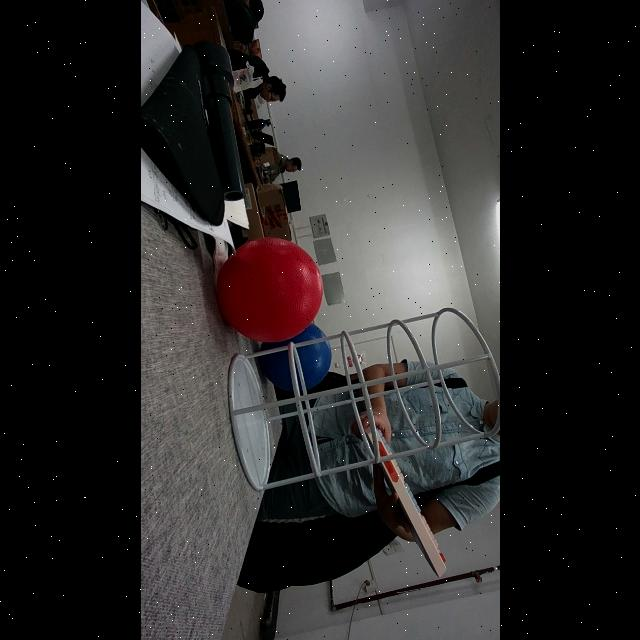B: (258, 322, 332, 390)
R: (215, 237, 322, 343)
S: (226, 306, 499, 492)
